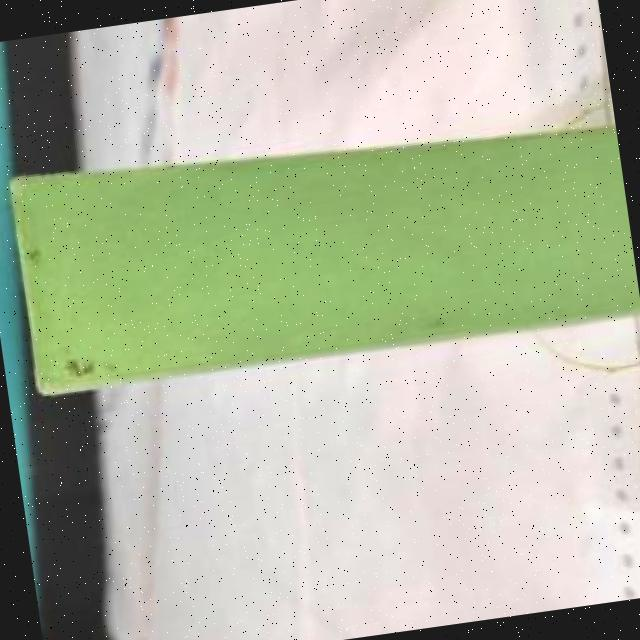greenbox: (7, 91, 640, 398)
